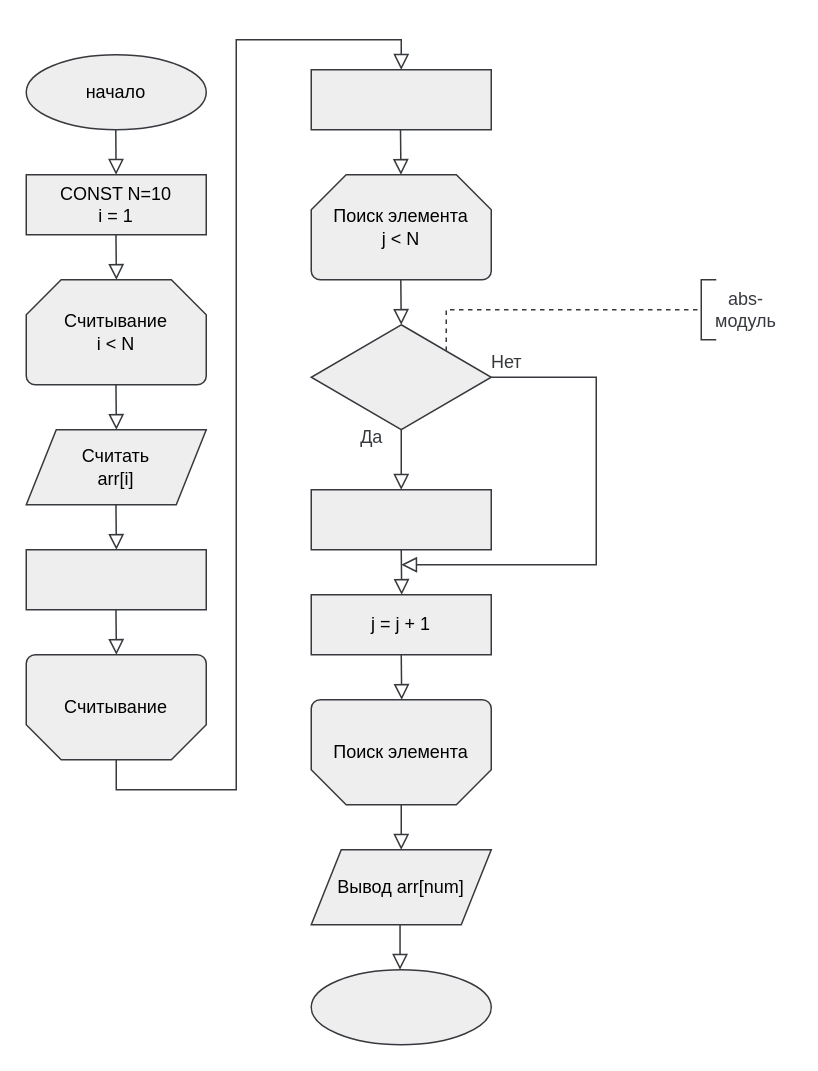
Some shapes in this 818 by 1071 pixel diagram are drawn without their labels. Each missing label, with the box of its shape:
abs(arr[j])<=abs(arr[num]): (310, 323, 491, 430)
i = i + 1: (25, 548, 206, 610)
num = 1 j = 1: (310, 68, 491, 130)
num = j: (310, 488, 491, 550)
конец: (310, 968, 491, 1045)
